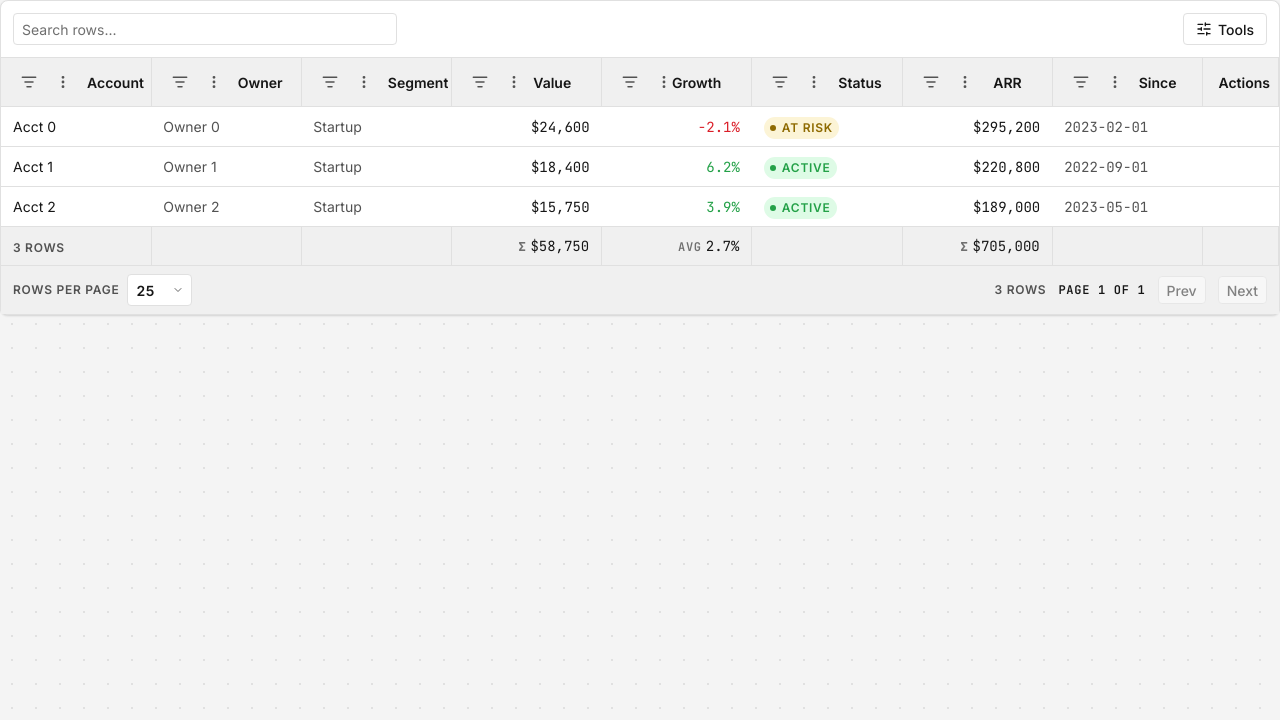
Scenario: DataGrid inline editing › validation failure shows an error and blocks the commit
Double-click the cell "$24,600".
double_click(560, 126)  # box [452,106,602,146]
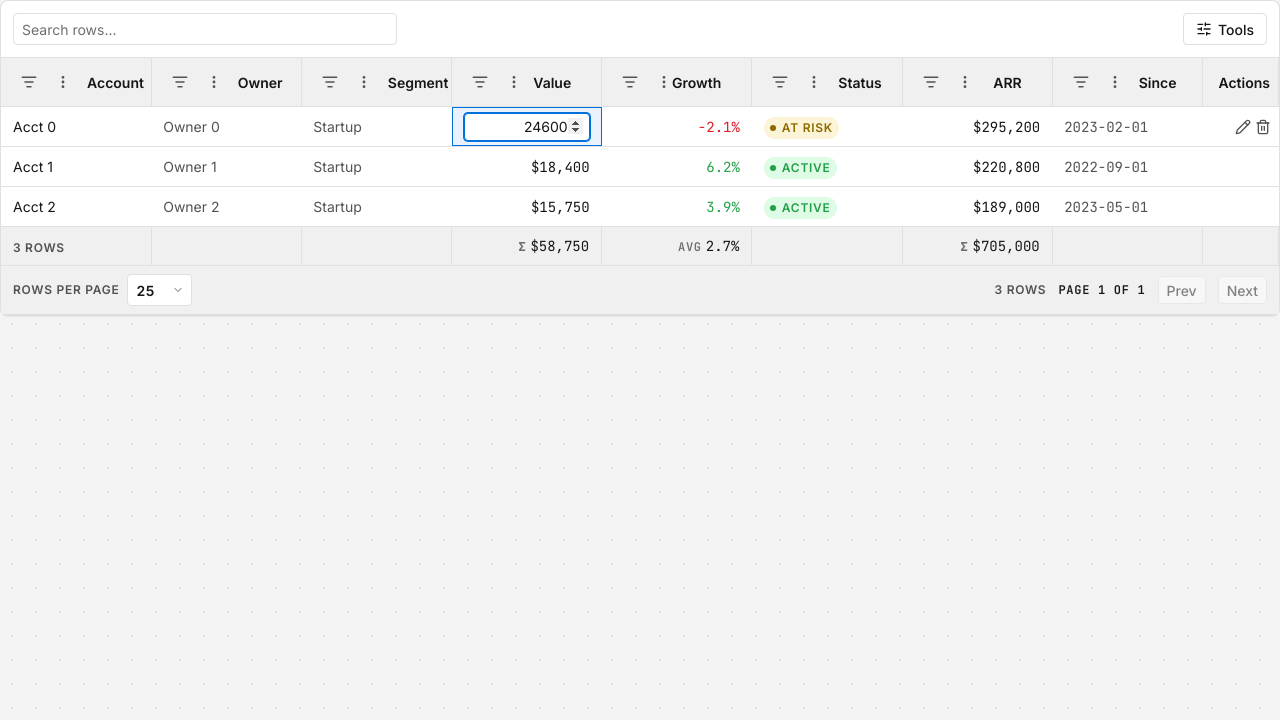
Replace the text in the number field named "Edit mrr" with "-50" at (527, 126), box [464,112,590,140]
Then press Enter
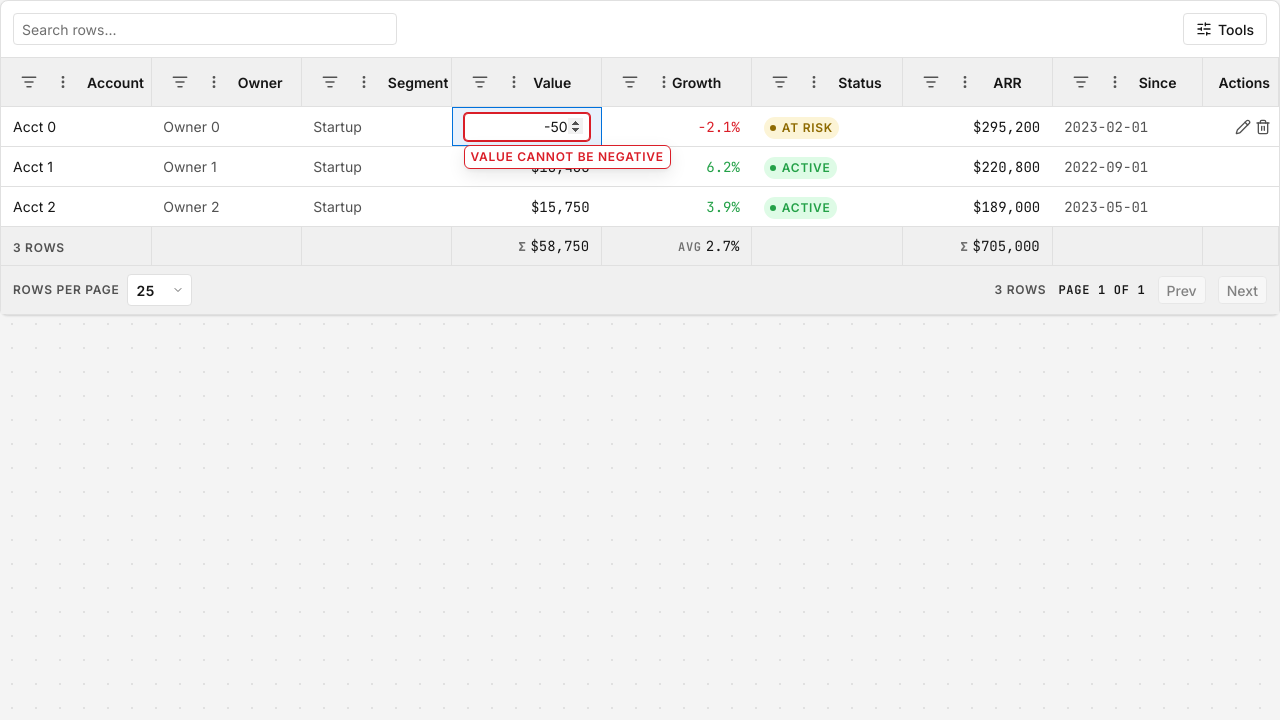
Expected: the message reads "Value cannot be negative", [470,148,664,164]
